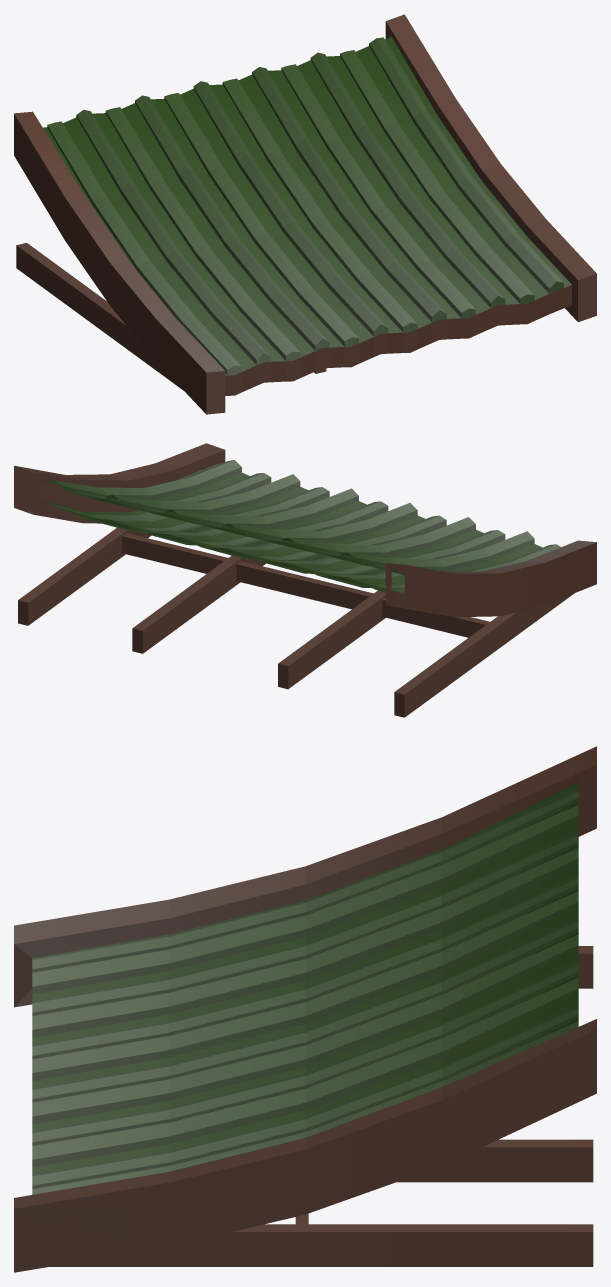
File: B02_auvent-traditionelle.fbx
3 views of the same model, one above another, from view 1: azimuth 30°, elevation 25°; view 2: azimuth 150°, elevation 25°; view 3: azimuth 270°, elevation 25° (orthographic). The views are drawn at different scales.
Visible parts, largest first — view 1: B02_auvent-traditionelle; view 2: B02_auvent-traditionelle; view 3: B02_auvent-traditionelle.
Boxes of the visible parts, bbox=[...] form: B02_auvent-traditionelle: bbox=[14, 14, 596, 414]; B02_auvent-traditionelle: bbox=[14, 443, 596, 717]; B02_auvent-traditionelle: bbox=[14, 746, 596, 1272].
Size of the model in its own units: 500 by 204 by 426.
